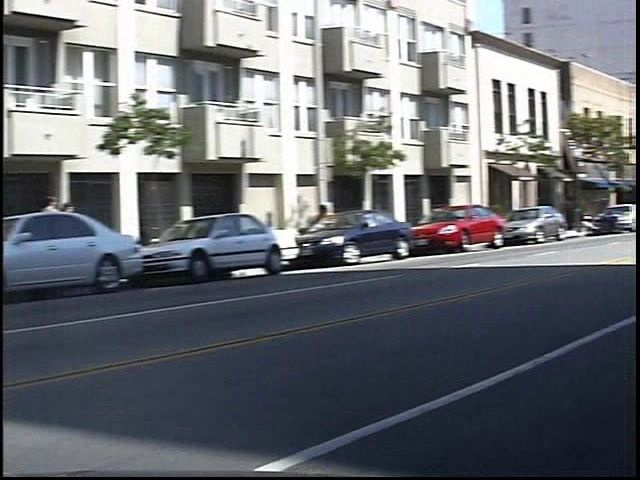person: (56, 186, 80, 266), (76, 197, 96, 262)
